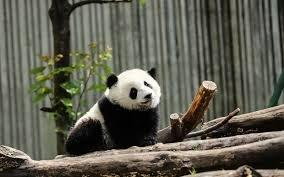bear: (68, 67, 161, 157)
